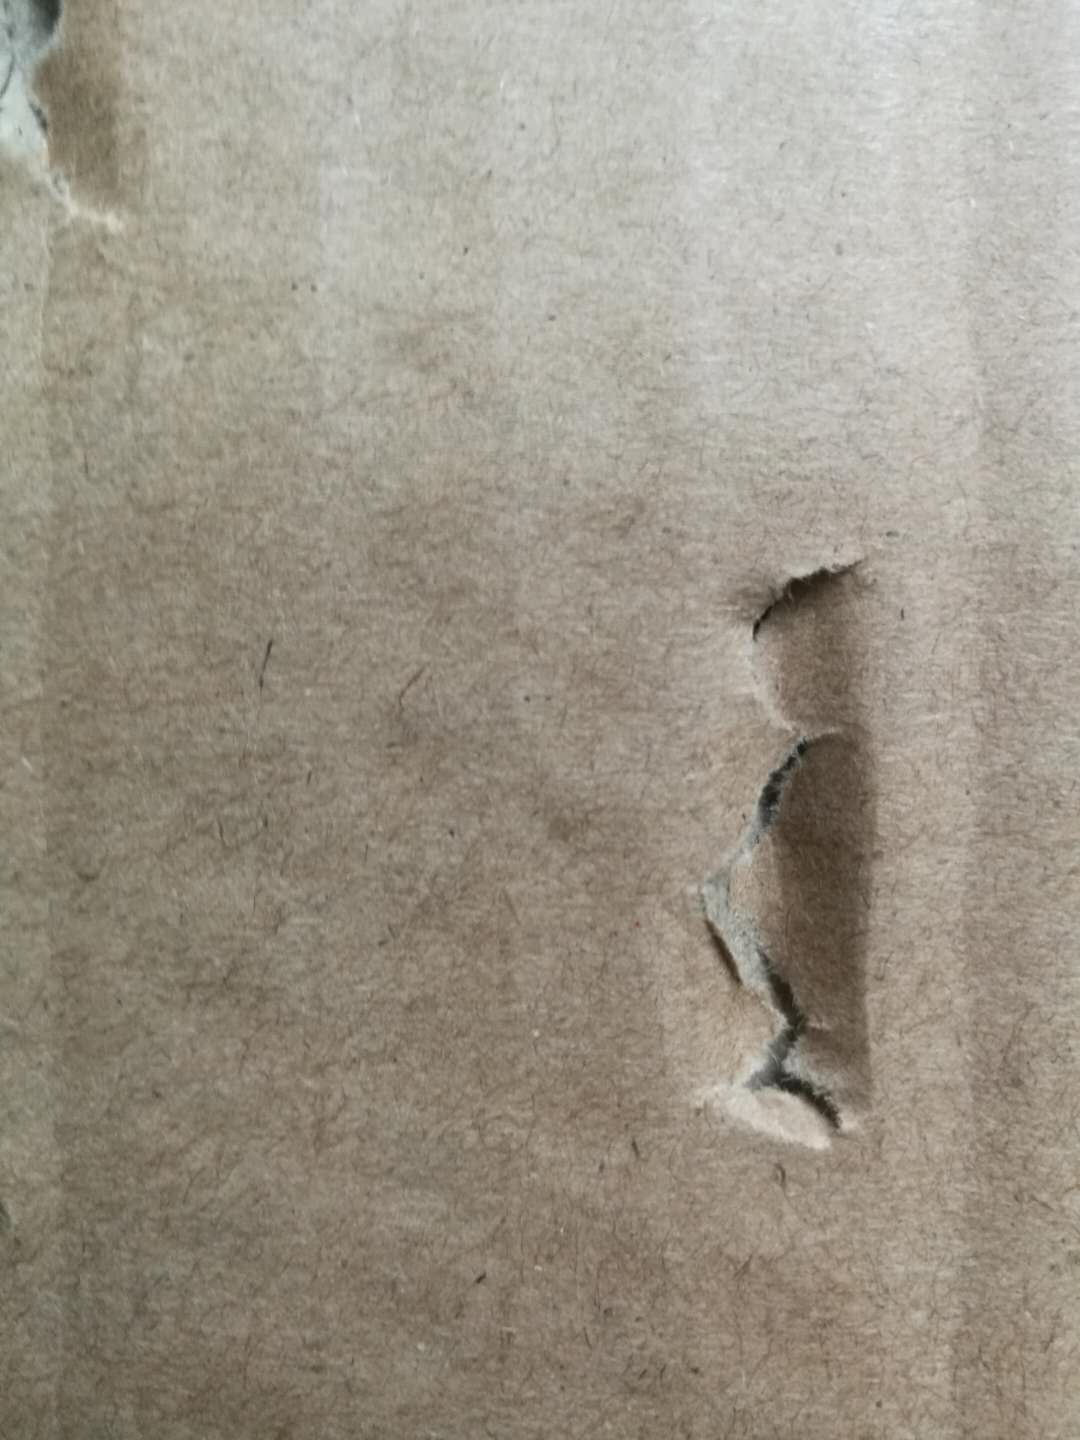defect: (626, 527, 933, 1218), (1, 1, 183, 262)
